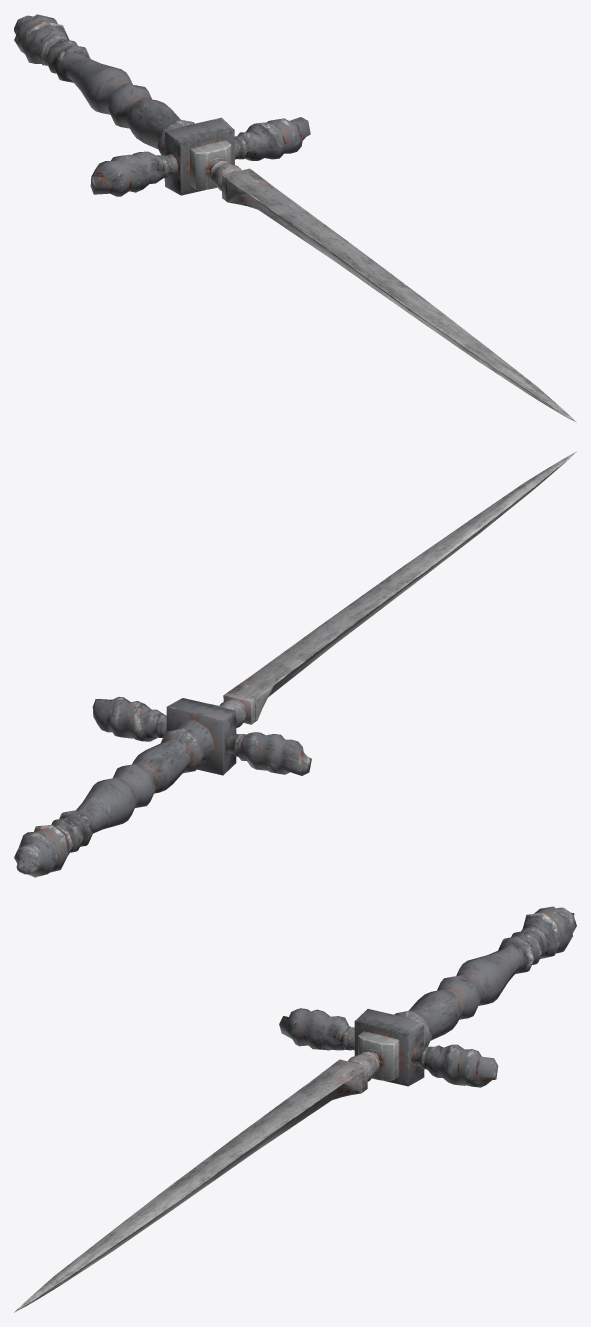
File: misericorde.fbx
The picture shows the model from 3 angles, top to bottom: view 1: azimuth 30°, elevation 25°; view 2: azimuth 150°, elevation 25°; view 3: azimuth 330°, elevation 25°; orthographic projection.
Visible parts, largest first — view 1: WP_A_0103; view 2: WP_A_0103; view 3: WP_A_0103.
Boxes of the visible parts, x1=… form: WP_A_0103: x1=14, y1=14, x2=576, y2=422; WP_A_0103: x1=14, y1=451, x2=576, y2=877; WP_A_0103: x1=14, y1=906, x2=576, y2=1312.
Bounding box in the file's own units: 17.85 × 4.46 × 80.63.
1 material, 1 textured.
